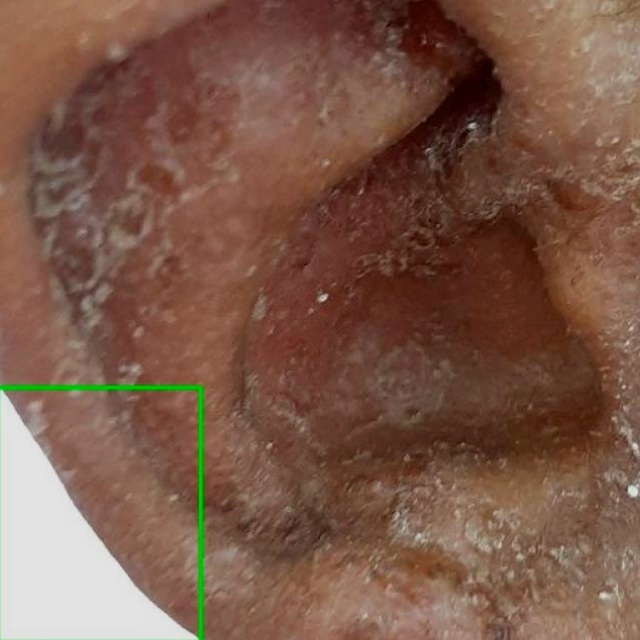Eczema: (0, 387, 200, 639)
